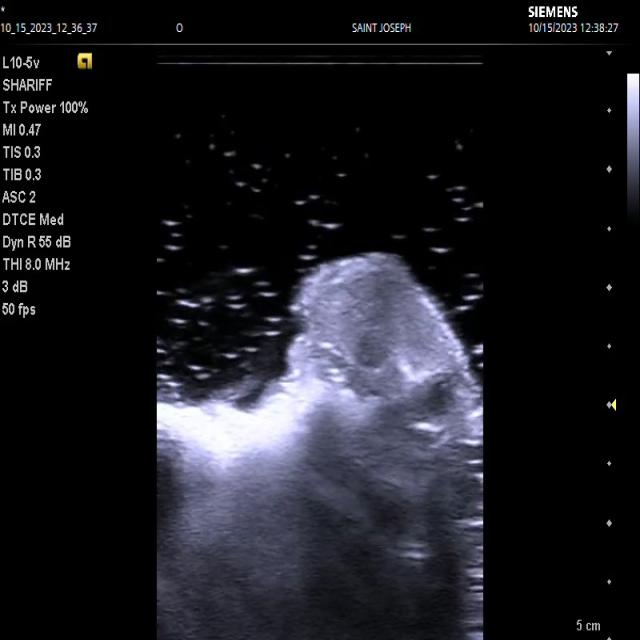tissue: (157, 254, 483, 640)
